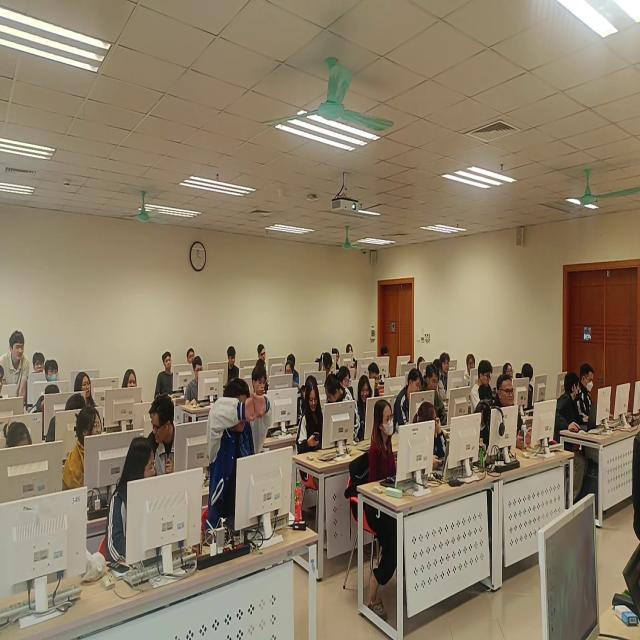raise_hand: (207, 376, 275, 539)
raise_head: (489, 372, 532, 454), (367, 393, 399, 486), (154, 350, 177, 398), (74, 372, 97, 405), (121, 366, 141, 394), (45, 355, 63, 385), (441, 351, 454, 387), (33, 347, 46, 377), (347, 343, 358, 368), (1, 360, 8, 398), (504, 362, 517, 381), (257, 342, 268, 363), (187, 346, 198, 365)
stand: (3, 326, 30, 404)
using_computer: (415, 400, 452, 472), (49, 395, 84, 443), (395, 368, 423, 428), (471, 357, 498, 418), (2, 411, 36, 451), (470, 400, 493, 454), (29, 382, 61, 419), (426, 362, 442, 425), (186, 356, 205, 405), (519, 362, 538, 410), (358, 373, 372, 432), (251, 363, 271, 398), (369, 362, 384, 404), (228, 344, 242, 380), (381, 343, 394, 378), (285, 359, 298, 390), (338, 364, 352, 389), (466, 352, 477, 383), (321, 351, 333, 378), (382, 346, 392, 378), (331, 346, 341, 372), (418, 353, 428, 372)
